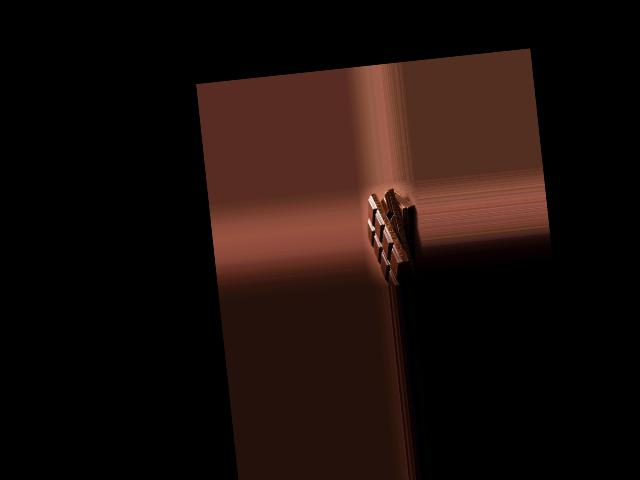chocolate: (364, 187, 416, 285)
